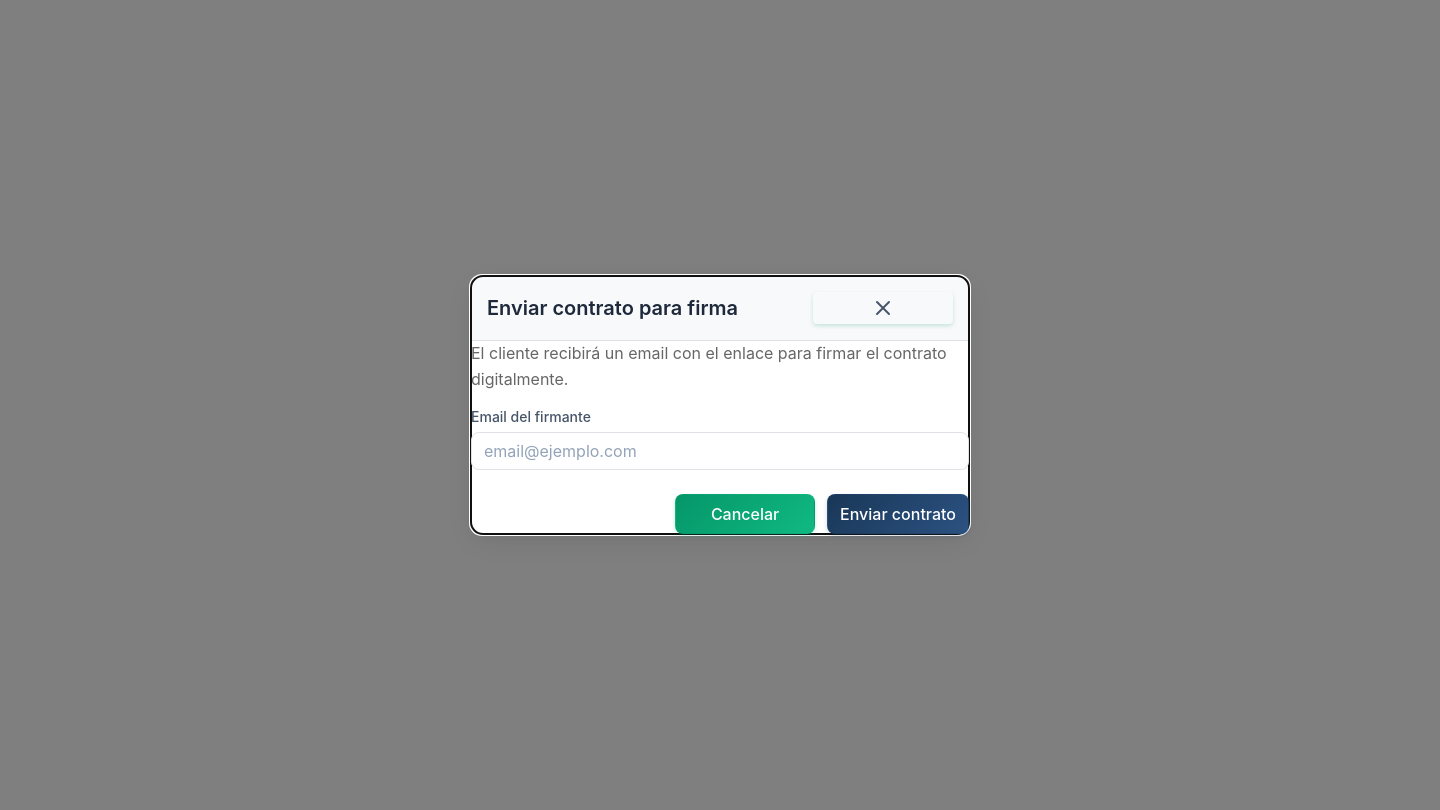
Test: SendContractModal › shows error when email is empty on confirm
The image size is (1440, 810).
Step 1. Click the button "Enviar contrato" → (898, 514), box [827, 494, 969, 534]
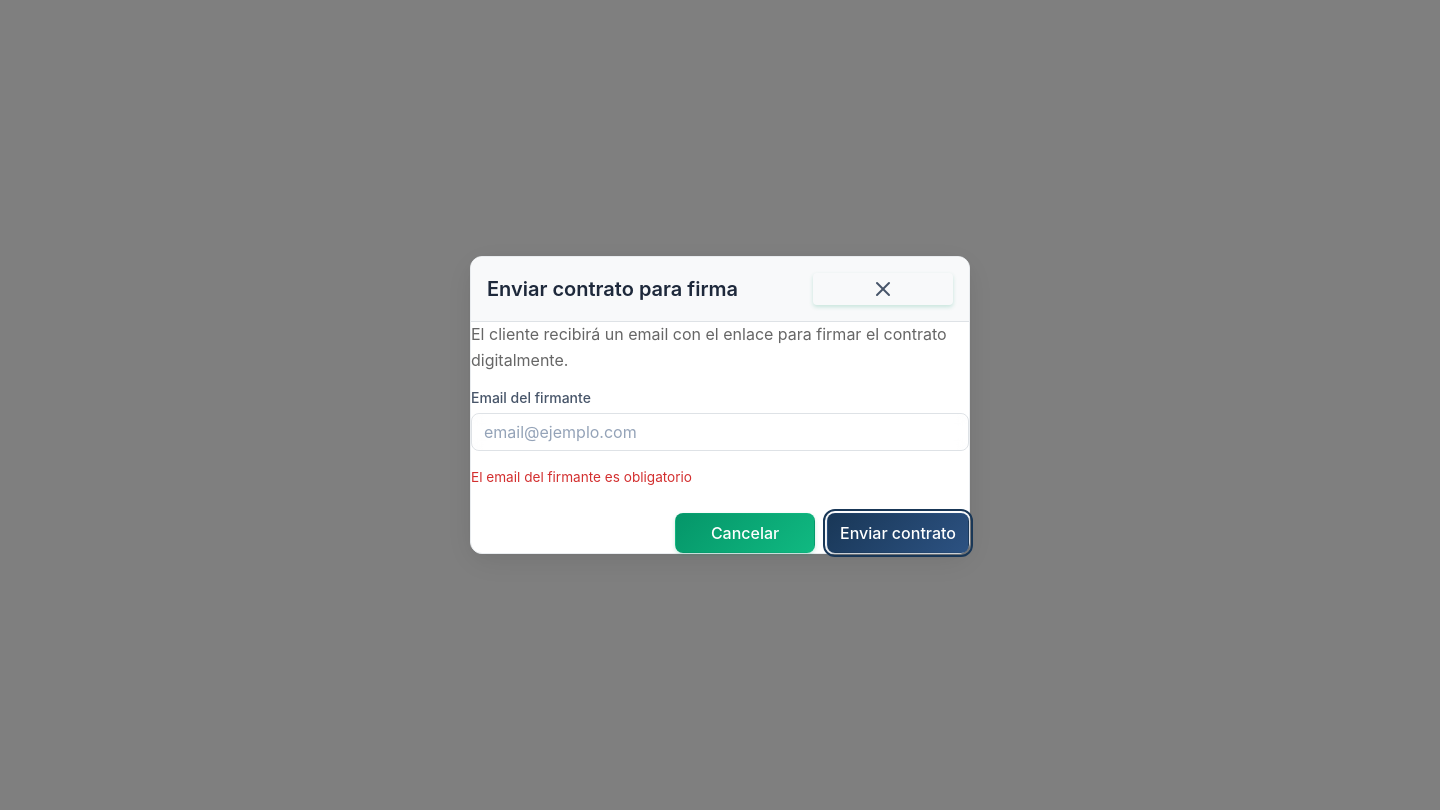
Expected: the text "El email del firmante es obligatorio" is shown, [471, 469, 692, 485]
